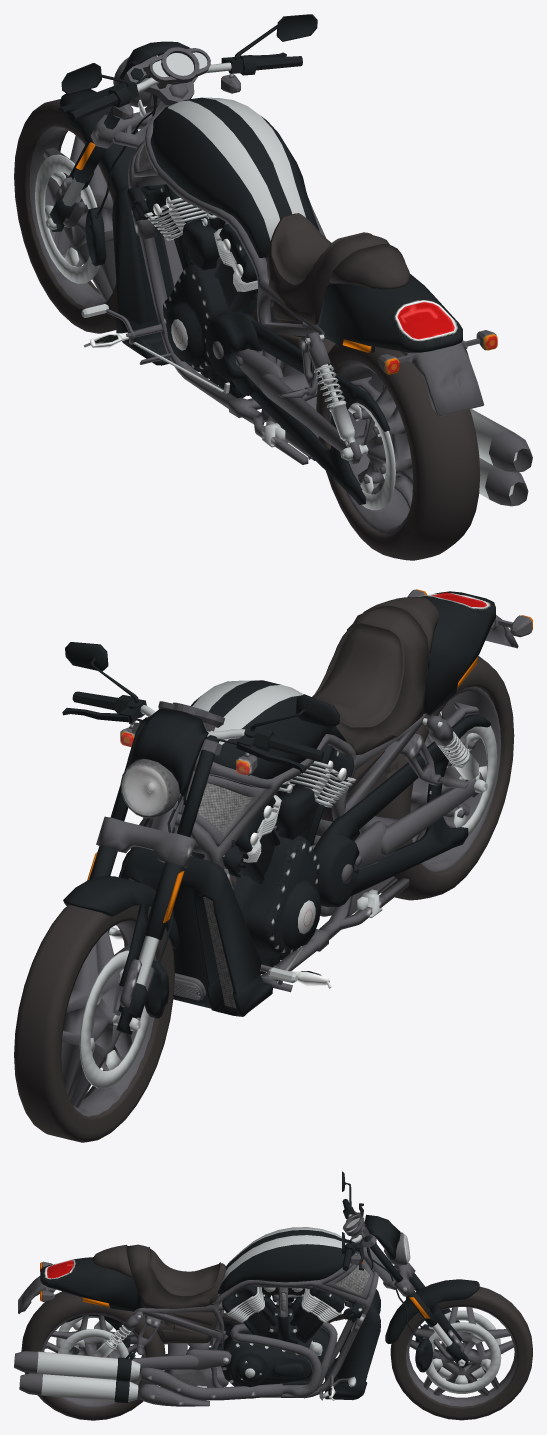
Rendered from nightrod.glb.
3 views of the same model, one above another, from view 1: azimuth 30°, elevation 25°; view 2: azimuth 150°, elevation 25°; view 3: azimuth 270°, elevation 25° (orthographic). The views are drawn at different scales.
Parts seen in each view (by area): view 1: Cube.003, Cube.012, Circle.003, Cube, Cube.004, Cube.014, Cube.013, Cube.001, Cube.002, Cube.022, VENTANA, Cube.018 (+19 smaller); view 2: Circle.003, Cube.002, Cube, Cube.004, Cube.022, Cube.001, Cube.003, Cube.012, VENTANA, Cube.014, Circle, Cube.013 (+20 smaller); view 3: Cube, Cube.003, Cube.002, Circle.006, Cube.004, Cube.012, Circle.007, Cube.001, Cube.014, Circle.001, Circle.004, Cube.036 (+23 smaller).
Part boxes in pixels (x1=…): Cube.003: x1=150, y1=97, x2=319, y2=257; Cube.012: x1=316, y1=344, x2=480, y2=560; Circle.003: x1=163, y1=213, x2=390, y2=504; Cube: x1=90, y1=83, x2=330, y2=464; Cube.004: x1=267, y1=213, x2=410, y2=324; Cube.014: x1=317, y1=274, x2=462, y2=352; Cube.013: x1=328, y1=361, x2=413, y2=533; Cube.001: x1=29, y1=126, x2=116, y2=307; Cube.002: x1=14, y1=99, x2=118, y2=333; Cube.022: x1=112, y1=181, x2=172, y2=365; VENTANA: x1=59, y1=14, x2=317, y2=218; Cube.018: x1=235, y1=348, x2=384, y2=464; Circle.003: x1=222, y1=715, x2=490, y2=974; Cube.002: x1=14, y1=904, x2=174, y2=1142; Cube: x1=96, y1=713, x2=468, y2=992; Cube.004: x1=312, y1=597, x2=439, y2=754; Cube.022: x1=121, y1=812, x2=272, y2=1016; Cube.001: x1=61, y1=920, x2=156, y2=1116; Cube.003: x1=191, y1=680, x2=346, y2=780; Cube.012: x1=375, y1=656, x2=514, y2=900; VENTANA: x1=62, y1=642, x2=339, y2=962; Cube.014: x1=421, y1=591, x2=495, y2=715; Circle: x1=89, y1=719, x2=219, y2=1034; Cube.013: x1=410, y1=686, x2=500, y2=871; Cube: x1=123, y1=1237, x2=415, y2=1400; Cube.003: x1=218, y1=1227, x2=347, y2=1294; Cube.002: x1=390, y1=1286, x2=532, y2=1420; Circle.006: x1=139, y1=1304, x2=337, y2=1406; Cube.004: x1=92, y1=1244, x2=226, y2=1308; Cube.012: x1=21, y1=1291, x2=165, y2=1420; Circle.007: x1=36, y1=1351, x2=140, y2=1401; Cube.001: x1=406, y1=1306, x2=517, y2=1406; Cube.014: x1=40, y1=1257, x2=144, y2=1311; Circle.001: x1=222, y1=1285, x2=344, y2=1343; Circle.004: x1=221, y1=1332, x2=311, y2=1387; Cube.036: x1=423, y1=1310, x2=501, y2=1393.
Bounding box in the file's own units: 314 × 419 × 923.
7 materials, 5 textured.
